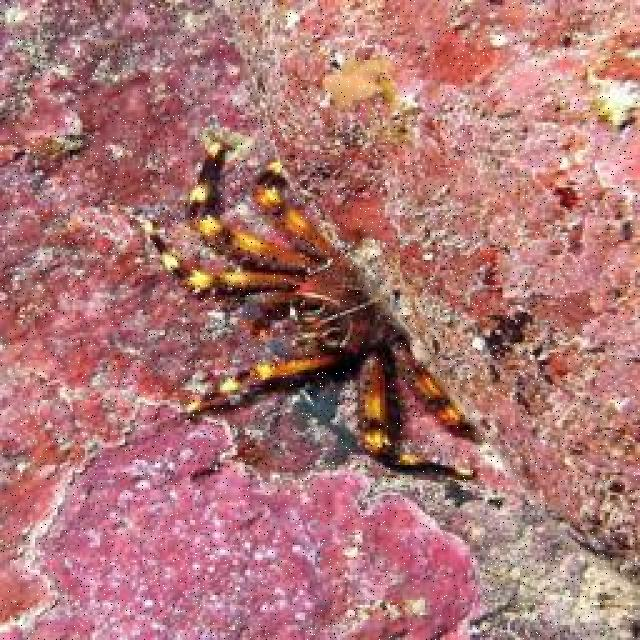reefs: (126, 140, 465, 460)
